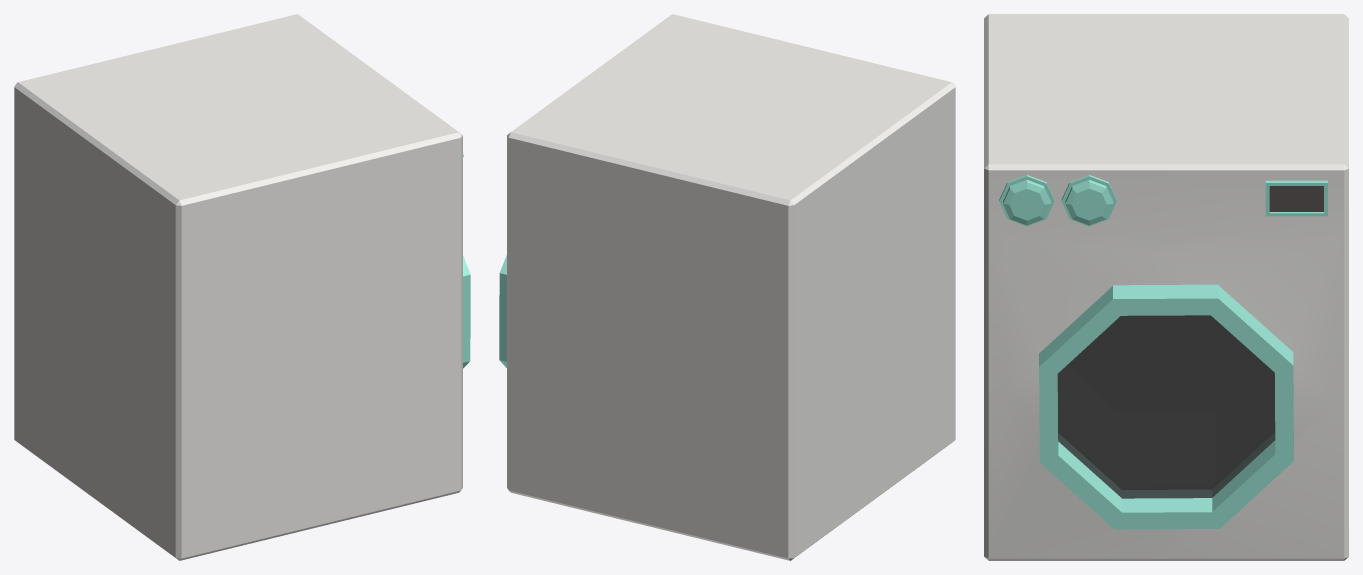
File: WashingMachine.fbx
The picture shows the model from 3 angles, left to right: view 1: azimuth 30°, elevation 25°; view 2: azimuth 150°, elevation 25°; view 3: azimuth 270°, elevation 25°; orthographic projection. The views are drawn at different scales.
Visible parts, largest first — view 1: polySurface256; view 2: polySurface256; view 3: polySurface256.
Part boxes in pixels (x1,y1,x2,y2): polySurface256: (14,14,470,560); polySurface256: (499,14,955,560); polySurface256: (984,14,1348,560).
Size of the model in its own units: 111 by 120 by 100.
